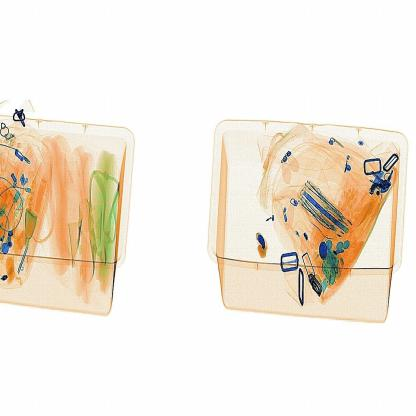wrench: (252, 228, 270, 263)
